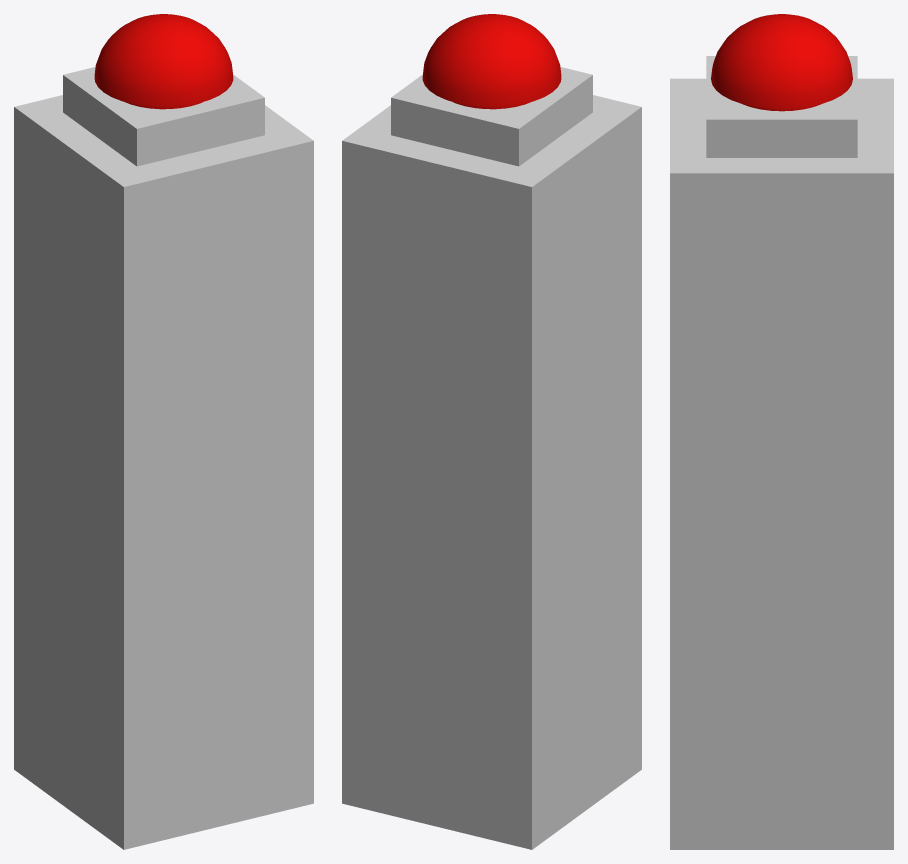
Rendered from button.fbx.
3 renders of one model, left to right at view 1: azimuth 30°, elevation 25°; view 2: azimuth 150°, elevation 25°; view 3: azimuth 270°, elevation 25°, orthographic. The views are drawn at different scales.
Parts seen in each view (by area): view 1: ButtonSocket, Button; view 2: ButtonSocket, Button; view 3: ButtonSocket, Button.
Part boxes in pixels (bbox=[...]): ButtonSocket: bbox=[14, 67, 313, 849]; Button: bbox=[94, 14, 233, 109]; ButtonSocket: bbox=[342, 67, 641, 849]; Button: bbox=[422, 14, 561, 109]; ButtonSocket: bbox=[670, 56, 893, 849]; Button: bbox=[711, 14, 852, 111].
Size of the model in its own units: 20.62 by 79.41 by 20.62.
